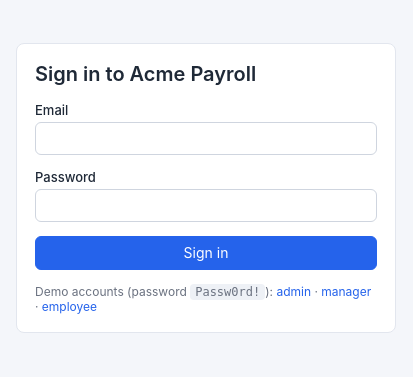
LoginPage › shows the server message for a wrong password
In the field labelled "Email": {"x": 206, "y": 138} [35,122,377,155], type "admin@acme.test"
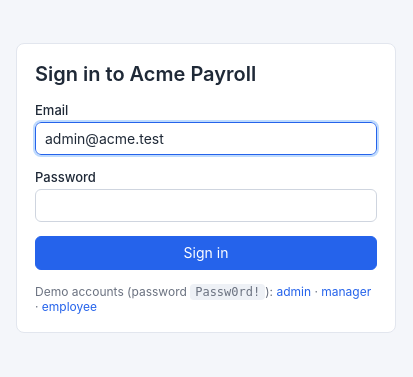
In the password field labelled "Password": {"x": 206, "y": 205} [35,189,377,222], type "wrong"
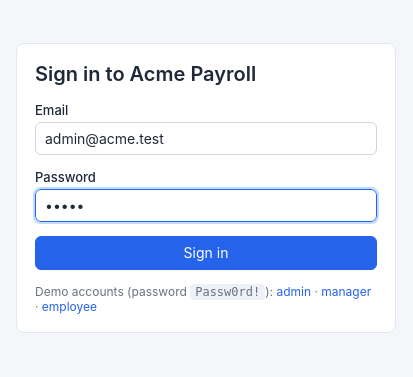
Click the button "Sign in": {"x": 206, "y": 253} [35,236,377,270]
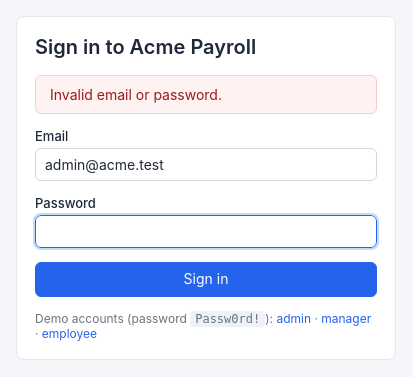
Result: the message with test id "login-error" reads "Invalid email or password." at [50,86,222,103]
Result: the password field labelled "Password" is empty at [35,215,377,248]
